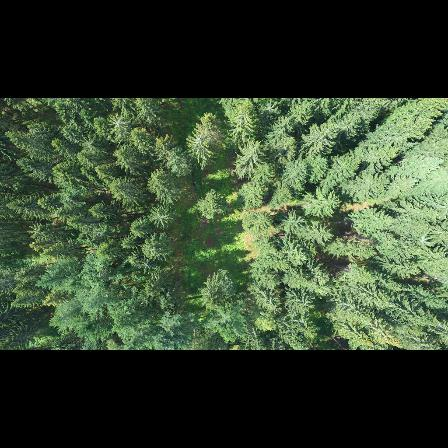Sick: (105, 112, 130, 135), (77, 134, 100, 156), (25, 222, 49, 243)
